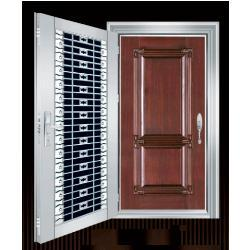door: (36, 15, 110, 233)
